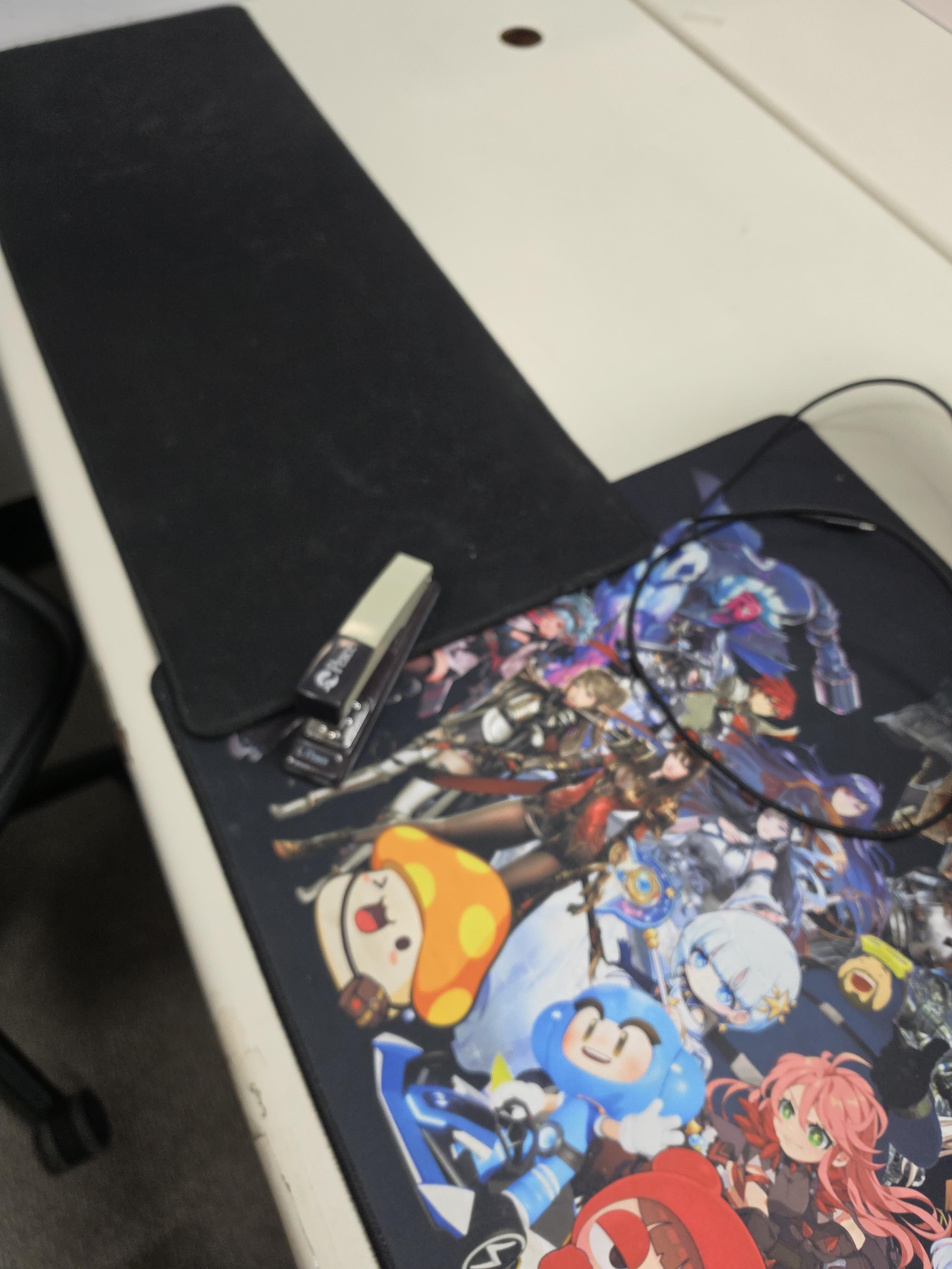stapler: (279, 551, 441, 790)
